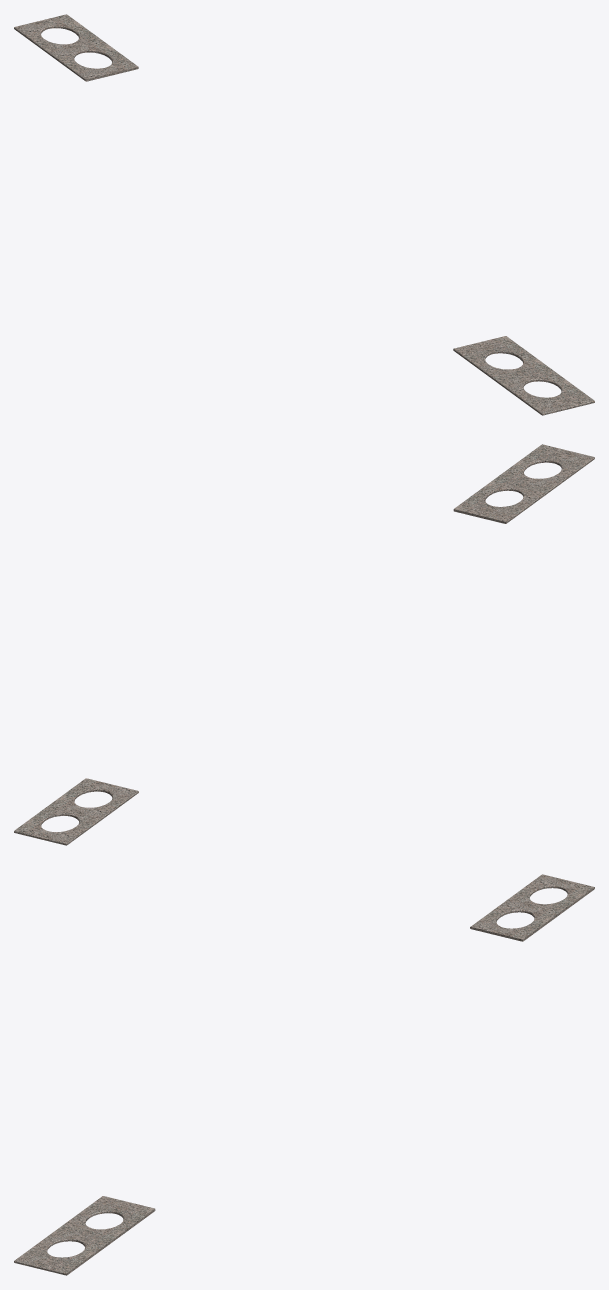
The model's file is Countertops_GraniteCaledonia_.glb.
3 renders of one model, top to bottom at view 1: azimuth 30°, elevation 25°; view 2: azimuth 150°, elevation 25°; view 3: azimuth 330°, elevation 25°, orthographic.
Visible parts, largest first — view 1: Countertops_Granite Caledonia_; view 2: Countertops_Granite Caledonia_; view 3: Countertops_Granite Caledonia_.
Part boxes in pixels (x1,y1,x2,y2): Countertops_Granite Caledonia_: (14, 14, 594, 415); Countertops_Granite Caledonia_: (14, 444, 594, 845); Countertops_Granite Caledonia_: (14, 874, 594, 1275).
Bounding box in the file's own units: 0.9958 × 0.04 × 17.25.
Materials: 1 (1 with a texture image).
